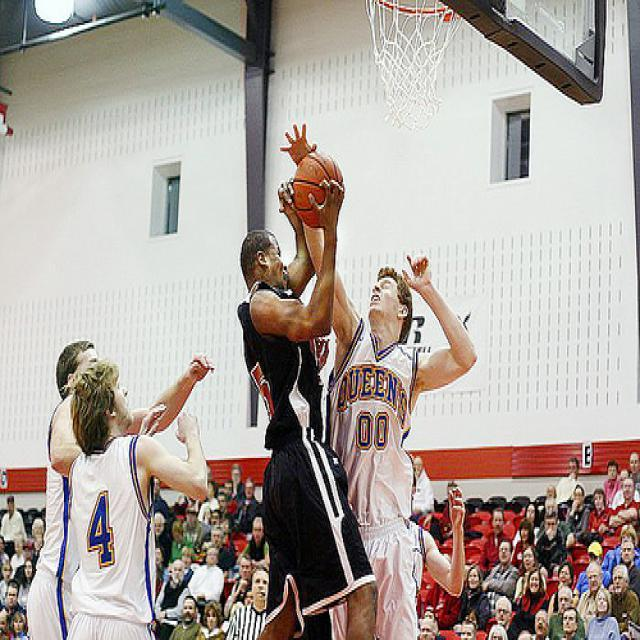basketball: (292, 153, 343, 226)
rim: (378, 0, 458, 23)
